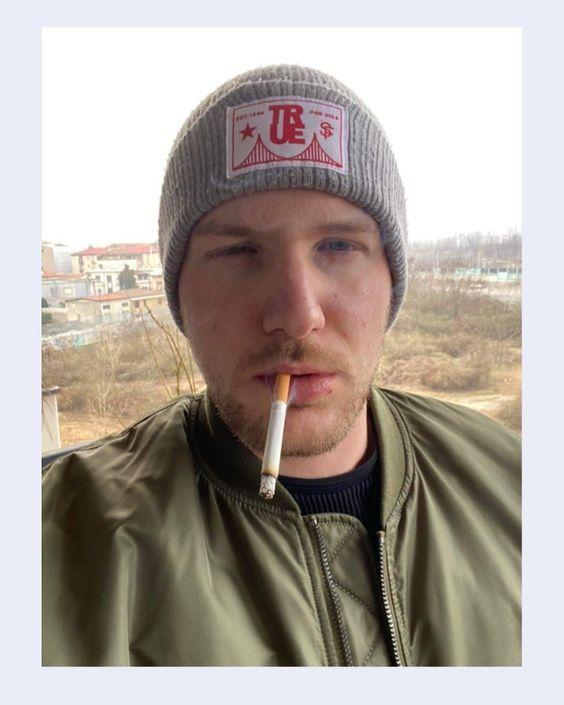cigarette: (258, 372, 292, 499)
